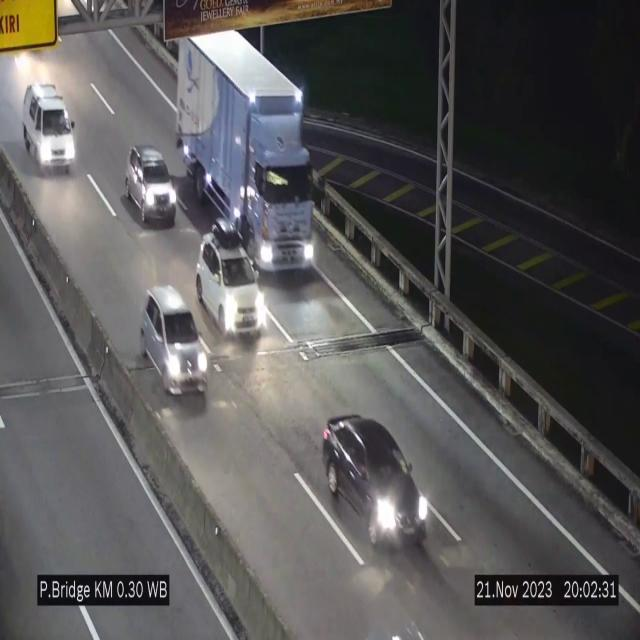Car: (322, 414, 426, 550), (194, 215, 268, 338), (140, 287, 208, 397), (23, 84, 75, 172), (125, 145, 177, 226)
Truck: (174, 28, 327, 280)
